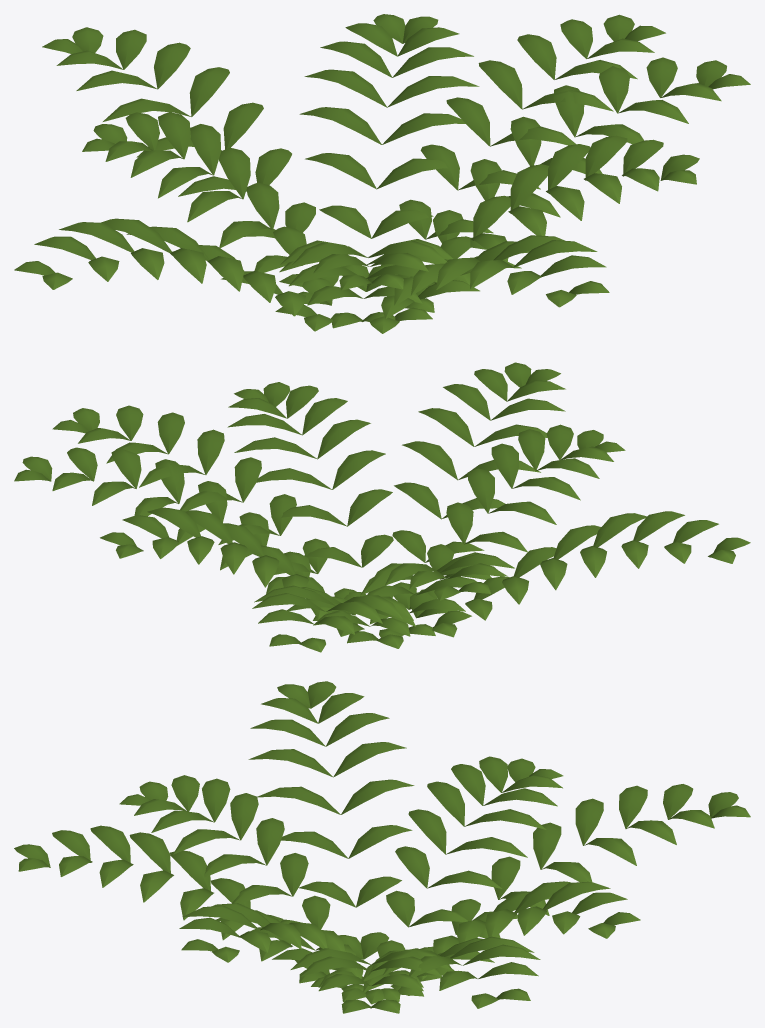
The model's file is Fern_patch.glb.
3 views of the same model, one above another, from view 1: azimuth 30°, elevation 25°; view 2: azimuth 150°, elevation 25°; view 3: azimuth 270°, elevation 25° (orthographic). The views are drawn at different scales.
Parts seen in each view (by area): view 1: Fern_patch; view 2: Fern_patch; view 3: Fern_patch.
Boxes of the visible parts, x1=… form: Fern_patch: x1=14, y1=14, x2=750, y2=333; Fern_patch: x1=14, y1=362, x2=750, y2=652; Fern_patch: x1=14, y1=681, x2=750, y2=1013.
Bounding box in the file's own units: 2.3 × 0.4667 × 2.16.
